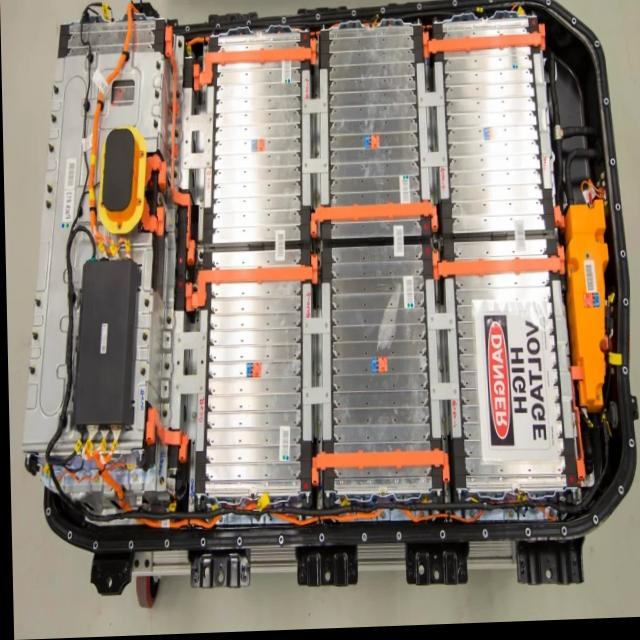Aluminum-frame: (424, 281, 459, 440), (301, 284, 330, 443), (169, 311, 206, 432), (417, 66, 449, 203), (300, 71, 329, 207), (181, 88, 214, 192)
Battery Module: (332, 248, 428, 490), (455, 277, 563, 491), (204, 285, 300, 498), (330, 31, 418, 241), (445, 51, 543, 235), (213, 38, 300, 244)
Bolt: (313, 414, 320, 435), (429, 185, 436, 204), (505, 510, 514, 524), (187, 411, 196, 423), (436, 365, 443, 380), (438, 417, 446, 430), (313, 369, 321, 380), (186, 496, 194, 507), (377, 510, 383, 524), (130, 472, 137, 484), (197, 196, 203, 209), (466, 513, 472, 523), (428, 145, 434, 154), (314, 494, 320, 503), (191, 368, 196, 378)
Bus-bar: (185, 258, 316, 312), (165, 28, 193, 265), (193, 43, 315, 92), (310, 204, 436, 240), (309, 455, 447, 487), (431, 249, 563, 282), (423, 27, 545, 60), (144, 409, 185, 463), (569, 368, 584, 481)
Cable: (85, 14, 137, 256), (79, 451, 220, 530), (272, 509, 382, 526)
Nut: (28, 326, 39, 344), (149, 117, 161, 133), (45, 138, 56, 155), (51, 81, 63, 96), (27, 362, 37, 379), (34, 293, 44, 309), (155, 59, 163, 75), (142, 295, 150, 309), (164, 313, 171, 329), (152, 90, 160, 104), (47, 113, 57, 124), (43, 198, 52, 210), (139, 331, 148, 343), (161, 359, 169, 372), (44, 184, 54, 194), (160, 406, 167, 420), (138, 364, 144, 378)
